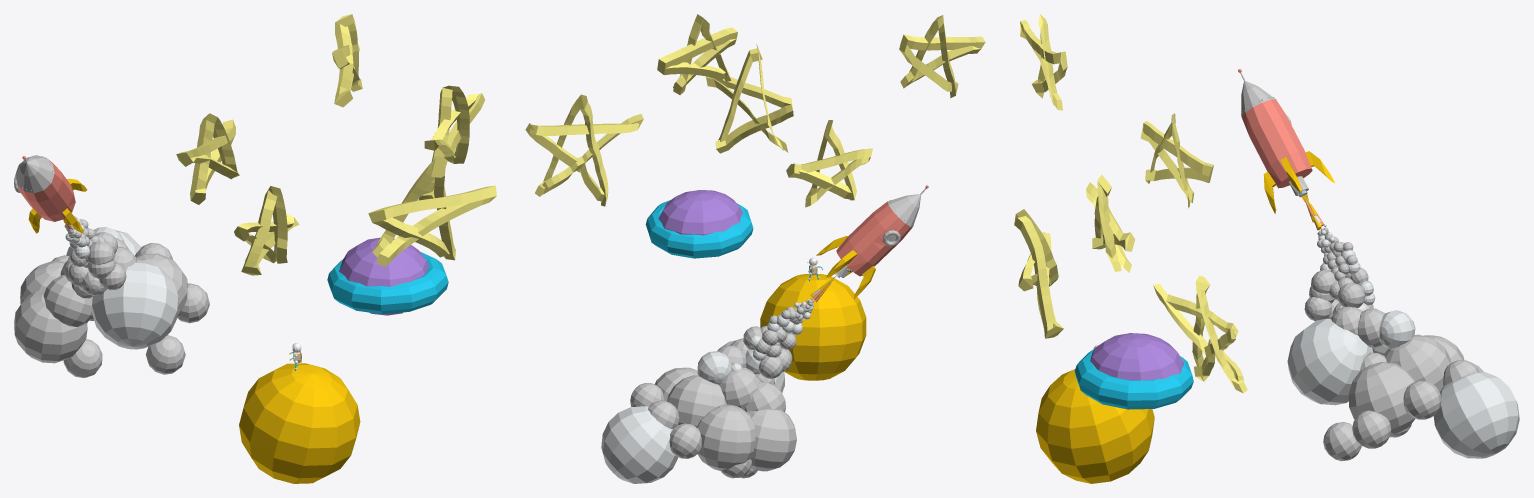
File: spaceShipScaled.fbx
The picture shows the model from 3 angles, left to right: view 1: azimuth 30°, elevation 25°; view 2: azimuth 150°, elevation 25°; view 3: azimuth 270°, elevation 25°; orthographic projection. The views are drawn at different scales.
Parts seen in each view (by area): view 1: group_353988837, group4, group_1305911104, group_1893136814, group_142836615, group_1571955931, group_50797721, group_1747534764; view 2: group_353988837, group4, group_1305911104, group_1893136814, group_1571955931, group_142836615, group_50797721, group_1747534764; view 3: group_353988837, group4, group_1305911104, group_1571955931, group_142836615, group_50797721, group_1893136814, group_1747534764.
Boxes of the visible parts, <box> form: group_353988837: <box>14,155,209,378</box>; group4: <box>239,237,448,483</box>; group_1305911104: <box>368,158,496,266</box>; group_1893136814: <box>176,113,239,204</box>; group_142836615: <box>234,186,299,275</box>; group_1571955931: <box>332,14,362,107</box>; group_50797721: <box>418,85,469,200</box>; group_1747534764: <box>424,93,484,161</box>; group_353988837: <box>601,185,928,483</box>; group4: <box>645,190,866,380</box>; group_1305911104: <box>706,44,793,153</box>; group_1893136814: <box>899,15,985,98</box>; group_1571955931: <box>657,14,737,94</box>; group_142836615: <box>786,120,872,207</box>; group_50797721: <box>535,94,608,206</box>; group_1747534764: <box>525,113,643,172</box>; group_353988837: <box>1238,69,1519,461</box>; group4: <box>1036,333,1193,483</box>; group_1305911104: <box>1014,209,1063,338</box>; group_1571955931: <box>1140,113,1213,208</box>; group_142836615: <box>1086,174,1135,272</box>; group_50797721: <box>1192,276,1247,393</box>; group_1893136814: <box>1020,14,1067,110</box>; group_1747534764: <box>1153,284,1238,357</box>.
Bounding box in the file's own units: 2.51 × 2.17 × 2.44.
